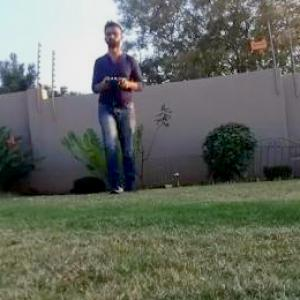follow: (89, 15, 150, 198)
